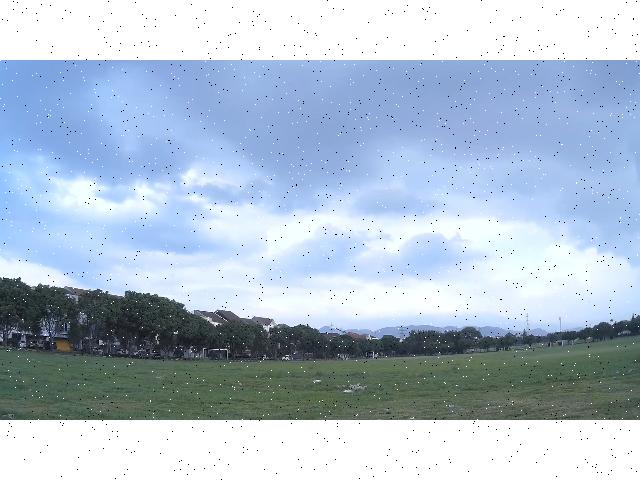Anti-Drone: (330, 319, 366, 344)
